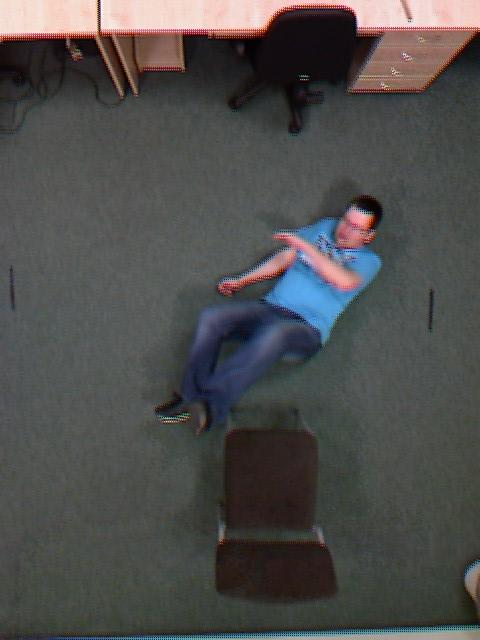fall: (178, 141, 367, 483)
